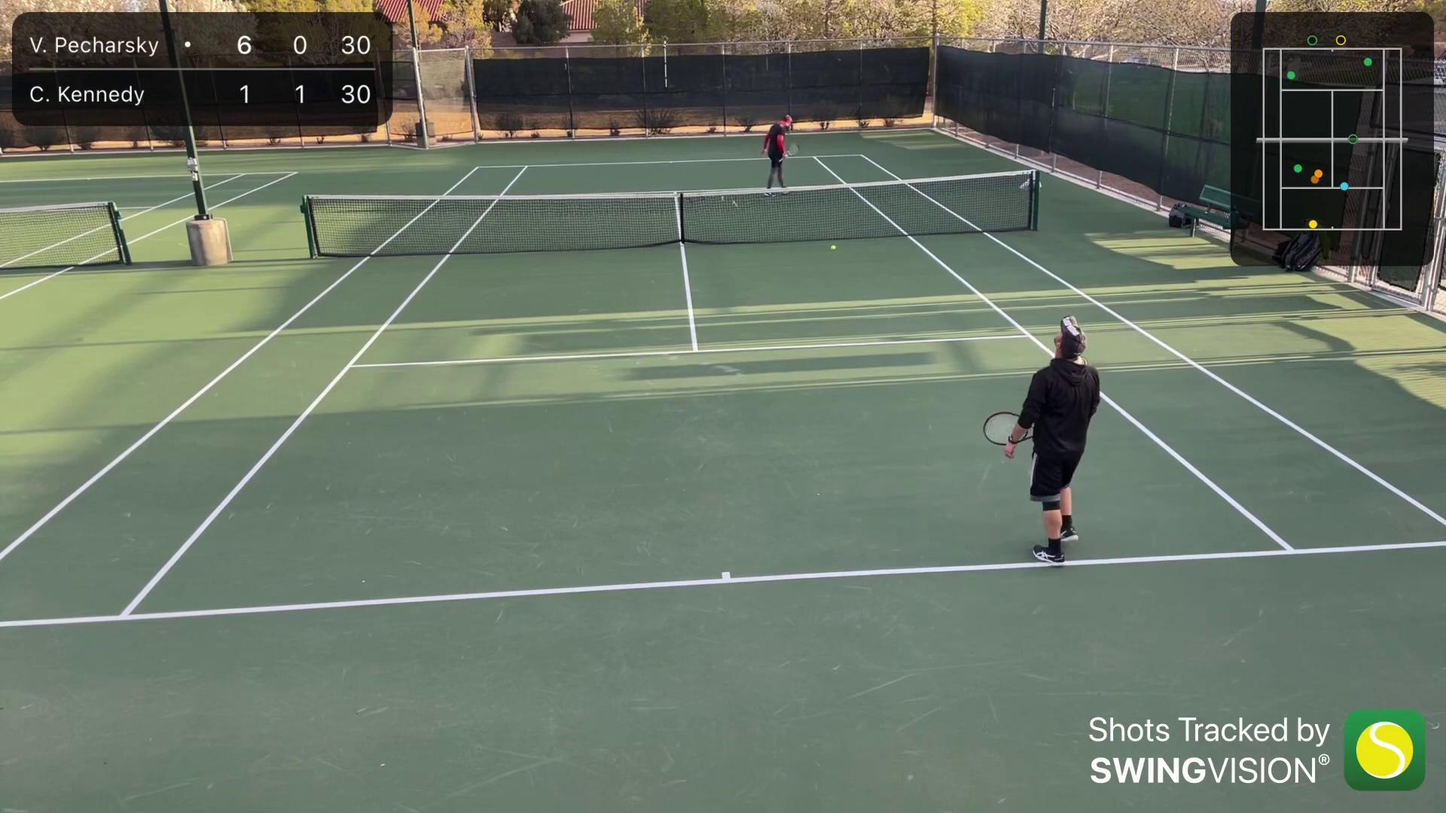ball: (830, 244, 837, 251)
